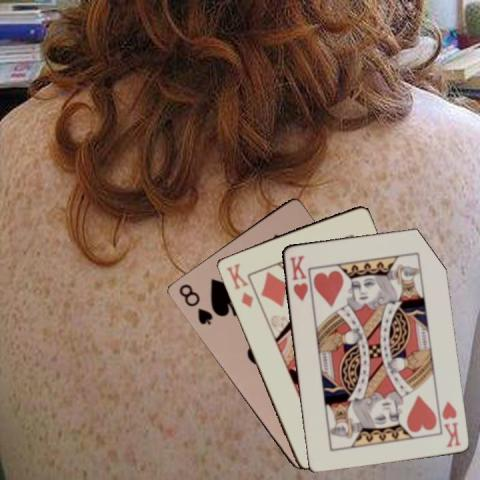8s: (175, 280, 214, 327)
Kd: (222, 260, 255, 309)
Kh: (438, 398, 462, 449), (287, 252, 309, 302)
